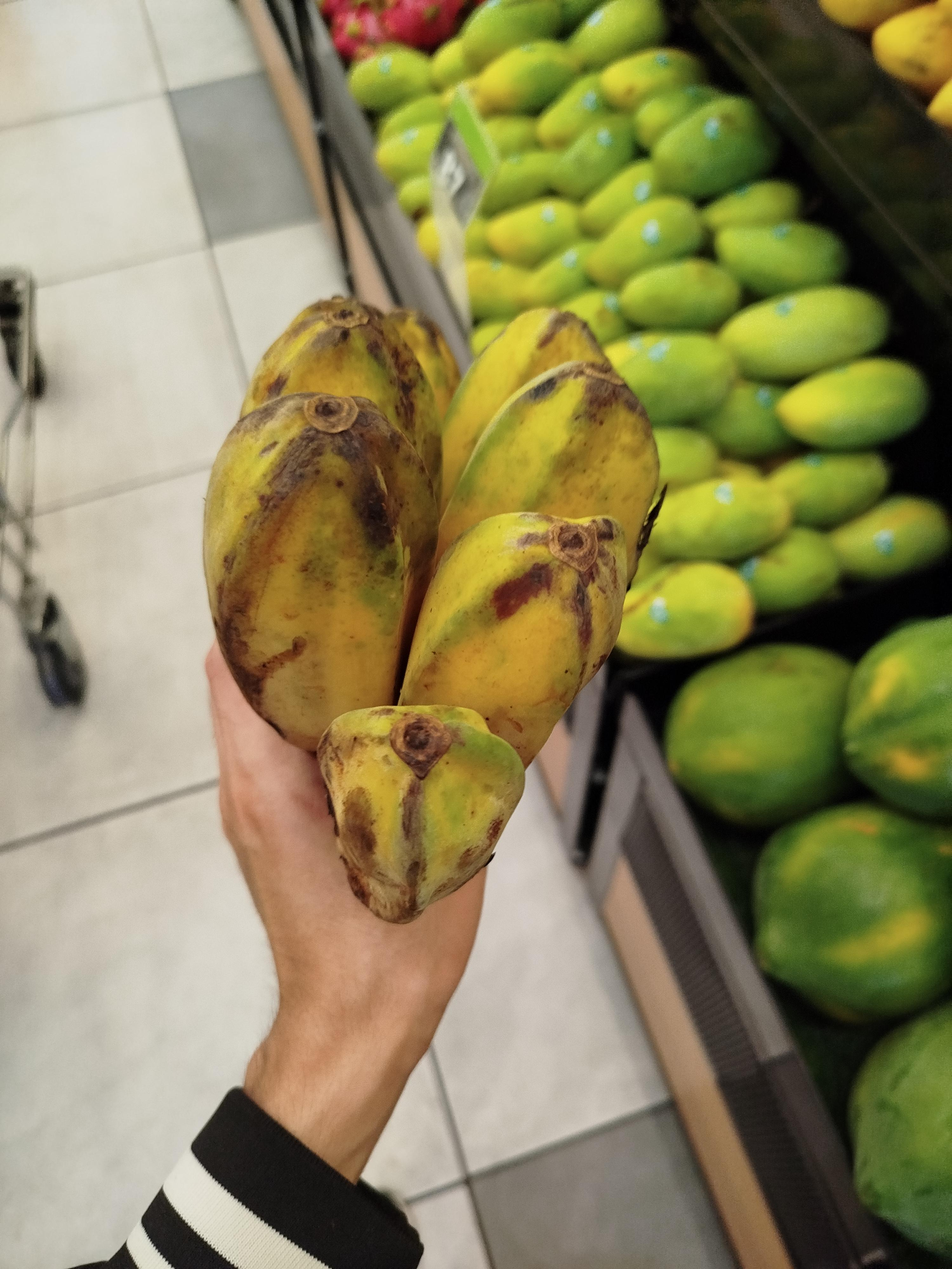underripe: (204, 298, 662, 922)
